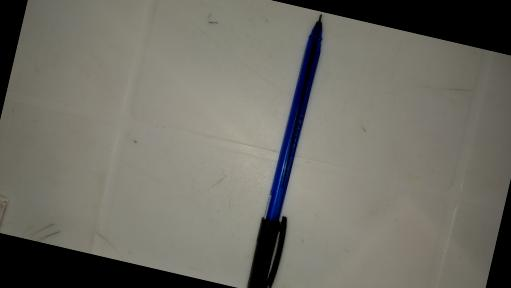pen: (245, 9, 336, 288)
